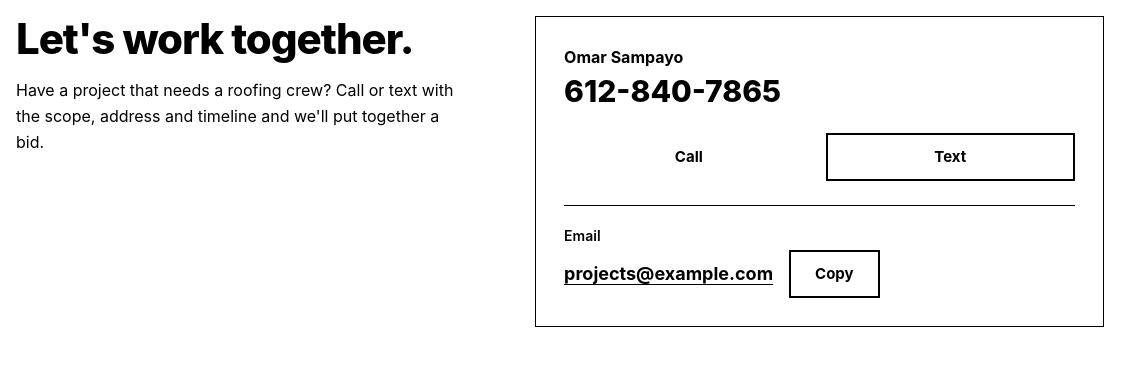
Test: Contact block › says so when the browser blocks the clipboard, instead of claiming it copied
This screenshot has width=1121, height=372.
Click the button "Copy" at [834, 274], box [789, 250, 880, 298]
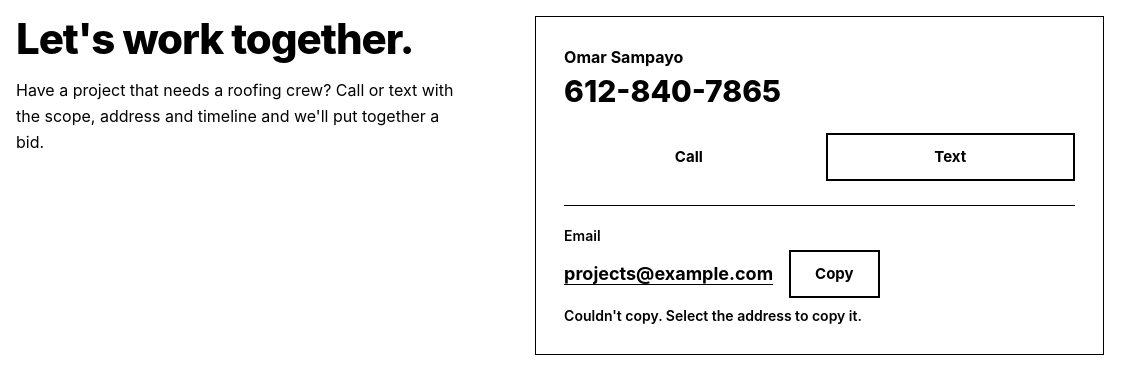
expect the text "Couldn't copy. Select the address to copy it." is shown: met, box [564, 306, 862, 326]
